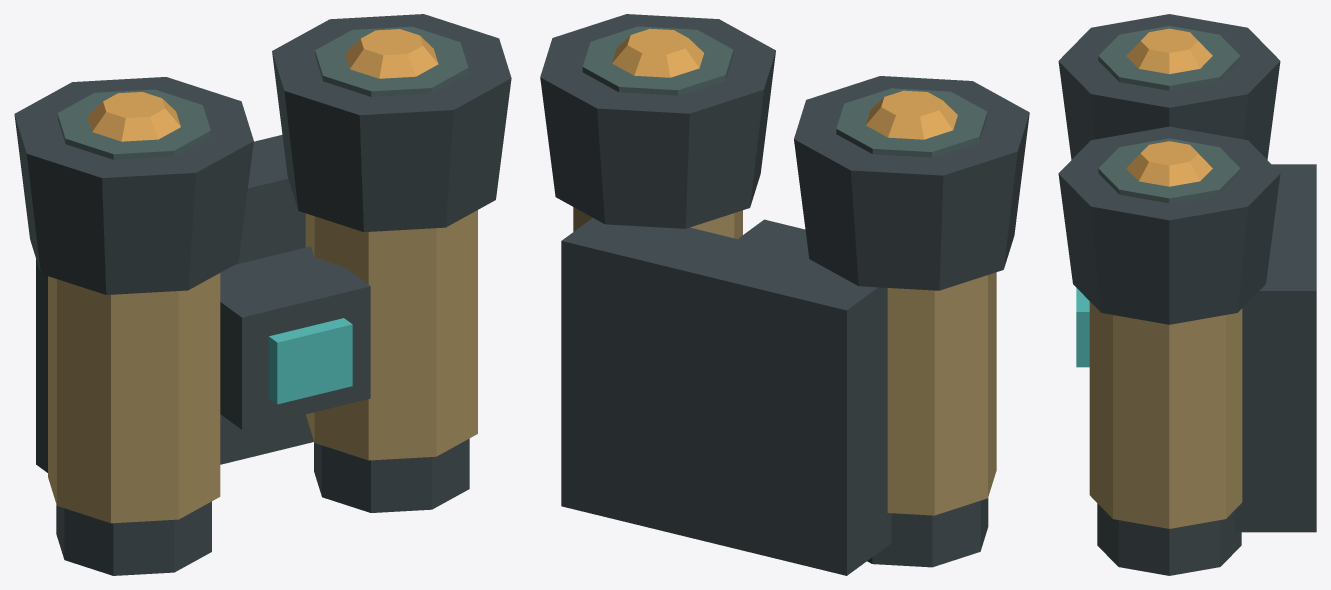
Rendered from Equip_Thruster.fbx.
3 views of the same model, side by side, from view 1: azimuth 30°, elevation 25°; view 2: azimuth 150°, elevation 25°; view 3: azimuth 270°, elevation 25° (orthographic). The views are drawn at different scales.
Visible parts, largest first — view 1: Equip_Thruster; view 2: Equip_Thruster; view 3: Equip_Thruster.
Boxes of the visible parts, <box> form: Equip_Thruster: <box>14,14,511,575</box>; Equip_Thruster: <box>540,14,1029,575</box>; Equip_Thruster: <box>1058,14,1316,575</box>.
Size of the model in its own units: 0.4401 by 0.39 by 0.2325.
